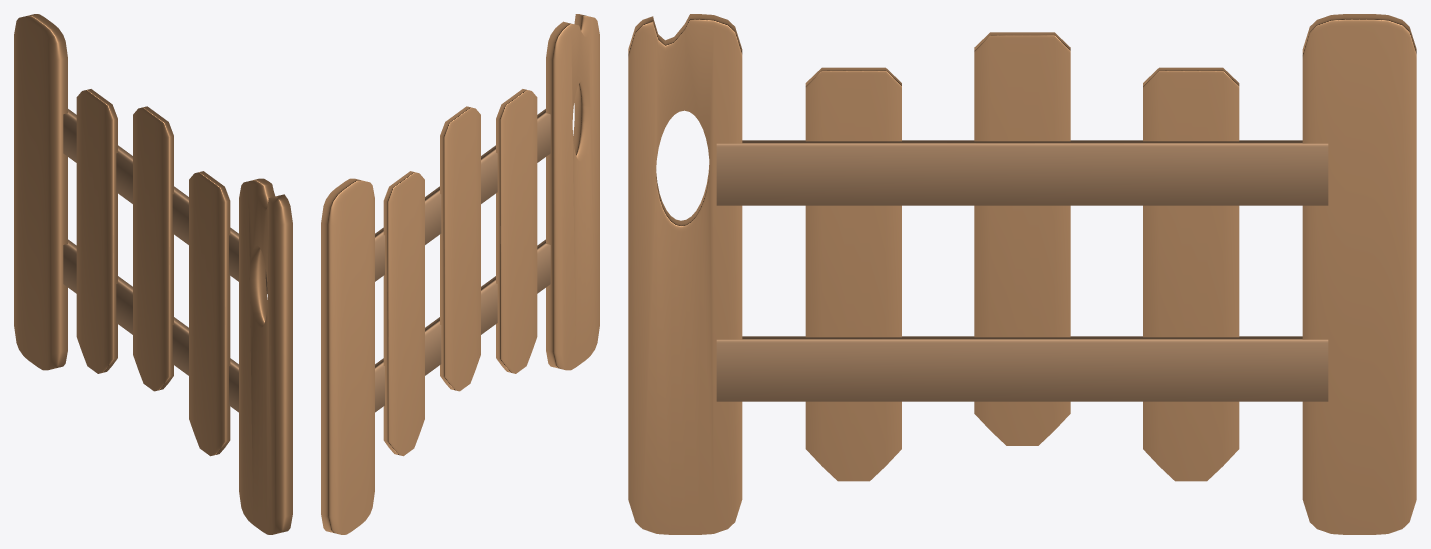
File: Valla.fbx
3 views of the same model, side by side, from view 1: azimuth 30°, elevation 25°; view 2: azimuth 150°, elevation 25°; view 3: azimuth 270°, elevation 25° (orthographic). The views are drawn at different scales.
Visible parts, largest first — view 1: Cube.004, Cube, Cube.001, Cube.003, Cube.002, Cube.006, Cube.005; view 2: Cube, Cube.004, Cube.003, Cube.001, Cube.002, Cube.006, Cube.005; view 3: Cube, Cube.004, Cube.005, Cube.006, Cube.001, Cube.003, Cube.002.
Boxes of the visible parts, x1,y1,x2,y2 form: Cube.004: (239,178,292,534); Cube: (14,14,67,370); Cube.001: (76,89,117,373); Cube.003: (189,171,230,456); Cube.002: (133,106,173,391); Cube.006: (63,109,267,293); Cube.005: (63,239,238,412); Cube: (321,178,374,534); Cube.004: (546,14,599,370); Cube.003: (496,89,537,373); Cube.001: (383,171,424,456); Cube.002: (440,106,480,391); Cube.006: (375,109,550,281); Cube.005: (375,239,550,412); Cube: (1302,14,1416,534); Cube.004: (628,14,742,534); Cube.005: (716,336,1328,401); Cube.006: (716,140,1328,205); Cube.001: (1143,67,1239,481); Cube.003: (805,67,901,481); Cube.002: (974,32,1070,445).
Size of the model in its own units: 12.66 by 200 by 281.
